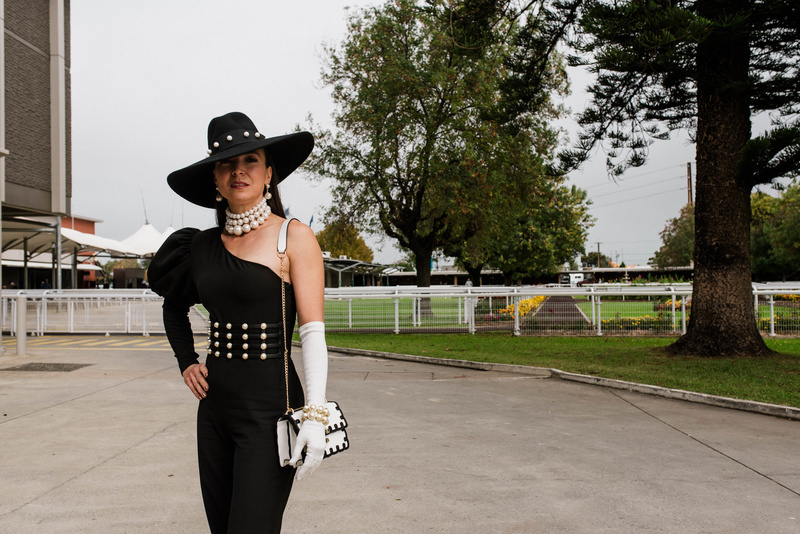Person: (150, 89, 356, 534)
